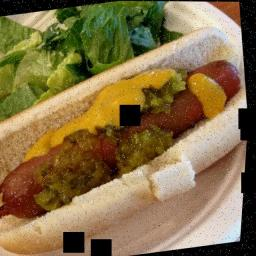hotdog: (0, 105, 170, 225), (151, 54, 249, 131)
